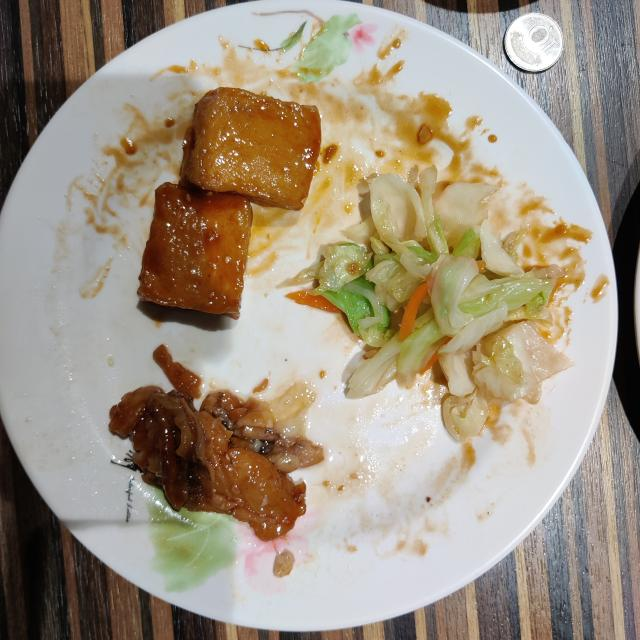Kabayaki sea bream fillet: (109, 385, 322, 541)
cabbage: (290, 166, 571, 441)
coin: (504, 12, 564, 72)
creamy tofu: (138, 88, 321, 319)
